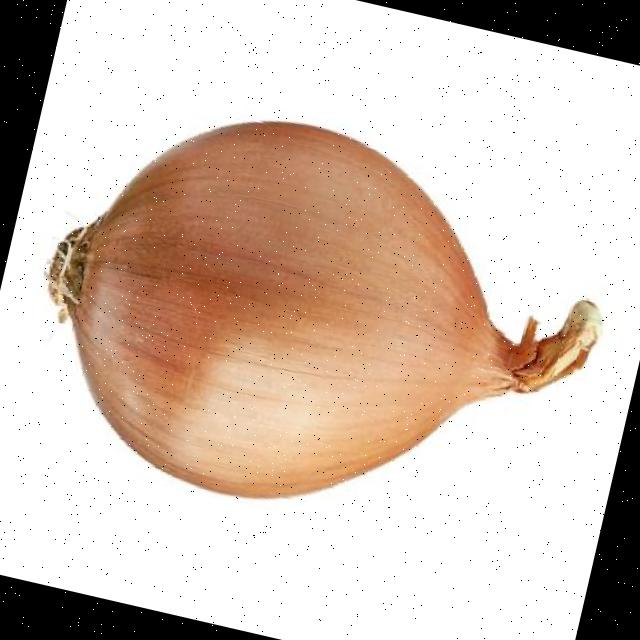Onion: (46, 122, 600, 499)
